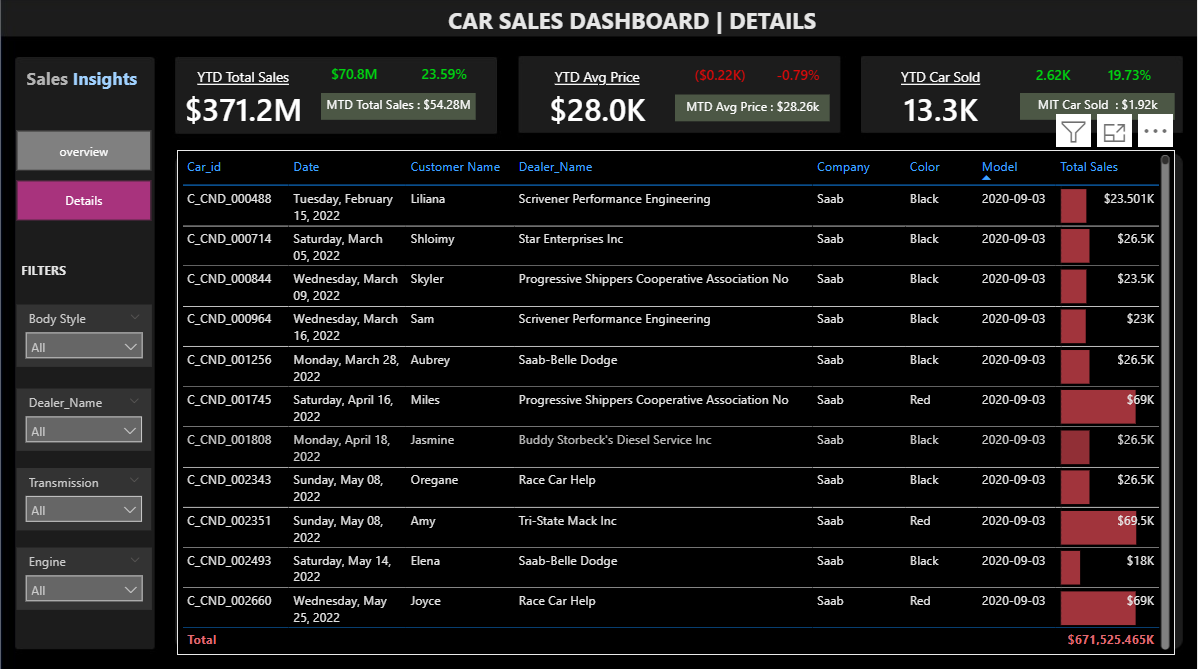

What the dashboard file says about the page in this screenshot:
{"tool":"powerbi","page":{"name":"Details","canvas":[1280,720],"ordinal":1},"visuals":[{"type":"card","title":"YTD Total Sales","fields":{"Values":["car_data.YTD Total Sales"]},"box":[176.6,71.6,167,68.4],"z":0},{"type":"card","fields":{"Values":["car_data.Sales Difference"]},"box":[343.6,55.7,70,49.3],"z":1000},{"type":"card","fields":{"Values":["car_data.YOY Sales Growth"]},"box":[439,55.7,70,49.3],"z":2000},{"type":"card","fields":{"Values":["car_data.MTD KPI"]},"box":[343.6,100.2,165.4,28.6],"z":3000},{"type":"card","title":"YTD Avg Price","fields":{"Values":["car_data.YTD Avg Price"]},"box":[555.1,71.6,167,68.4],"z":4000},{"type":"card","fields":{"Values":["car_data.Avg price Difference"]},"box":[734.9,55.7,70,50.9],"z":5000},{"type":"card","fields":{"Values":["car_data.YOY Avg Price Growth"]},"box":[817.6,55.7,70,50.9],"z":6000},{"type":"card","fields":{"Values":["car_data.MTD Avg Price Kpi"]},"box":[722.1,101.8,165.4,28.6],"z":7000},{"type":"card","title":"YTD Car Sold","fields":{"Values":["car_data.YTD Car Sold"]},"box":[922.6,71.6,167,68.4],"z":8000},{"type":"card","fields":{"Values":["car_data.Car Sold Diff"]},"box":[1089.6,55.7,70,50.9],"z":9000},{"type":"card","fields":{"Values":["car_data.YOY Car Sold Growth"]},"box":[1172.3,55.7,70,50.9],"z":10000},{"type":"card","fields":{"Values":["car_data.MTD car sold kpi"]},"box":[1089.6,100.2,165.4,28.6],"z":11000},{"type":"actionButton","box":[0,0,100,40],"z":12000},{"type":"textbox","box":[391.3,0,569.4,55.7],"z":13000},{"type":"slicer","fields":{"Values":["car_data.Body Style"]},"box":[17.5,326.1,144.7,66.8],"z":14000},{"type":"slicer","fields":{"Values":["car_data.Dealer_Name"]},"box":[17.5,415.1,144,66.8],"z":15000},{"type":"slicer","fields":{"Values":["car_data.Transmission"]},"box":[17.5,499.5,144,66.8],"z":16000},{"type":"slicer","fields":{"Values":["car_data.Engine"]},"box":[17.5,585.3,144.7,66.8],"z":17000},{"type":"textbox","box":[17.5,273.6,77.9,36.6],"z":18000},{"type":"tableEx","fields":{"Values":["car_data.Car_id","car_data.Date","car_data.Customer Name","car_data.Dealer_Name","car_data.Company","car_data.Color","car_data.Model","car_data.Price ($)"]},"box":[189.3,160.7,1065.7,539.2],"z":19000},{"type":"textbox","box":[12.7,65.2,149.5,41.4],"z":20000},{"type":"pageNavigator","box":[17.5,140,144.7,97],"z":21000}]}

Visuals, with their boxes on the page's 1280x720 design canvas (x1, y1, x2, y2). These are canvas units, not pixel positions in the 1198x669 screenshot, which may show the page scaled, cropped or inside an application window:
"YTD Total Sales" card: {"x1": 177, "y1": 72, "x2": 344, "y2": 140}
card - car_data.Sales Difference: {"x1": 344, "y1": 56, "x2": 414, "y2": 105}
card - car_data.YOY Sales Growth: {"x1": 439, "y1": 56, "x2": 509, "y2": 105}
card - car_data.MTD KPI: {"x1": 344, "y1": 100, "x2": 509, "y2": 129}
"YTD Avg Price" card: {"x1": 555, "y1": 72, "x2": 722, "y2": 140}
card - car_data.Avg price Difference: {"x1": 735, "y1": 56, "x2": 805, "y2": 107}
card - car_data.YOY Avg Price Growth: {"x1": 818, "y1": 56, "x2": 888, "y2": 107}
card - car_data.MTD Avg Price Kpi: {"x1": 722, "y1": 102, "x2": 888, "y2": 130}
"YTD Car Sold" card: {"x1": 923, "y1": 72, "x2": 1090, "y2": 140}
card - car_data.Car Sold Diff: {"x1": 1090, "y1": 56, "x2": 1160, "y2": 107}
card - car_data.YOY Car Sold Growth: {"x1": 1172, "y1": 56, "x2": 1242, "y2": 107}
card - car_data.MTD car sold kpi: {"x1": 1090, "y1": 100, "x2": 1255, "y2": 129}
actionButton: {"x1": 0, "y1": 0, "x2": 100, "y2": 40}
textbox: {"x1": 391, "y1": 0, "x2": 961, "y2": 56}
slicer - car_data.Body Style: {"x1": 18, "y1": 326, "x2": 162, "y2": 393}
slicer - car_data.Dealer_Name: {"x1": 18, "y1": 415, "x2": 162, "y2": 482}
slicer - car_data.Transmission: {"x1": 18, "y1": 500, "x2": 162, "y2": 566}
slicer - car_data.Engine: {"x1": 18, "y1": 585, "x2": 162, "y2": 652}
textbox: {"x1": 18, "y1": 274, "x2": 95, "y2": 310}
tableEx - car_data.Car_id x car_data.Date: {"x1": 189, "y1": 161, "x2": 1255, "y2": 700}
textbox: {"x1": 13, "y1": 65, "x2": 162, "y2": 107}
pageNavigator: {"x1": 18, "y1": 140, "x2": 162, "y2": 237}
